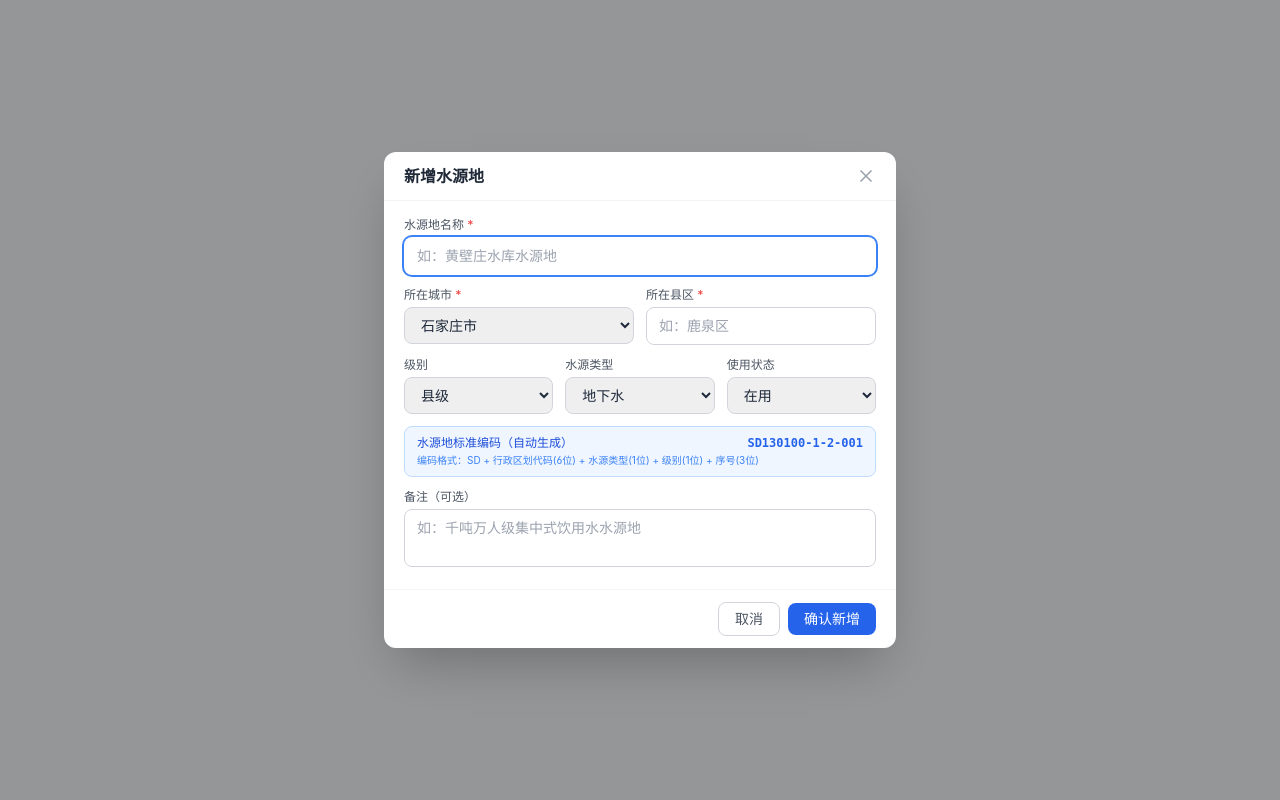
Scenario: SourceFormModal › 名称为空时提交应显示验证错误
Click the button "确认新增": (832, 619) [788,603,876,635]
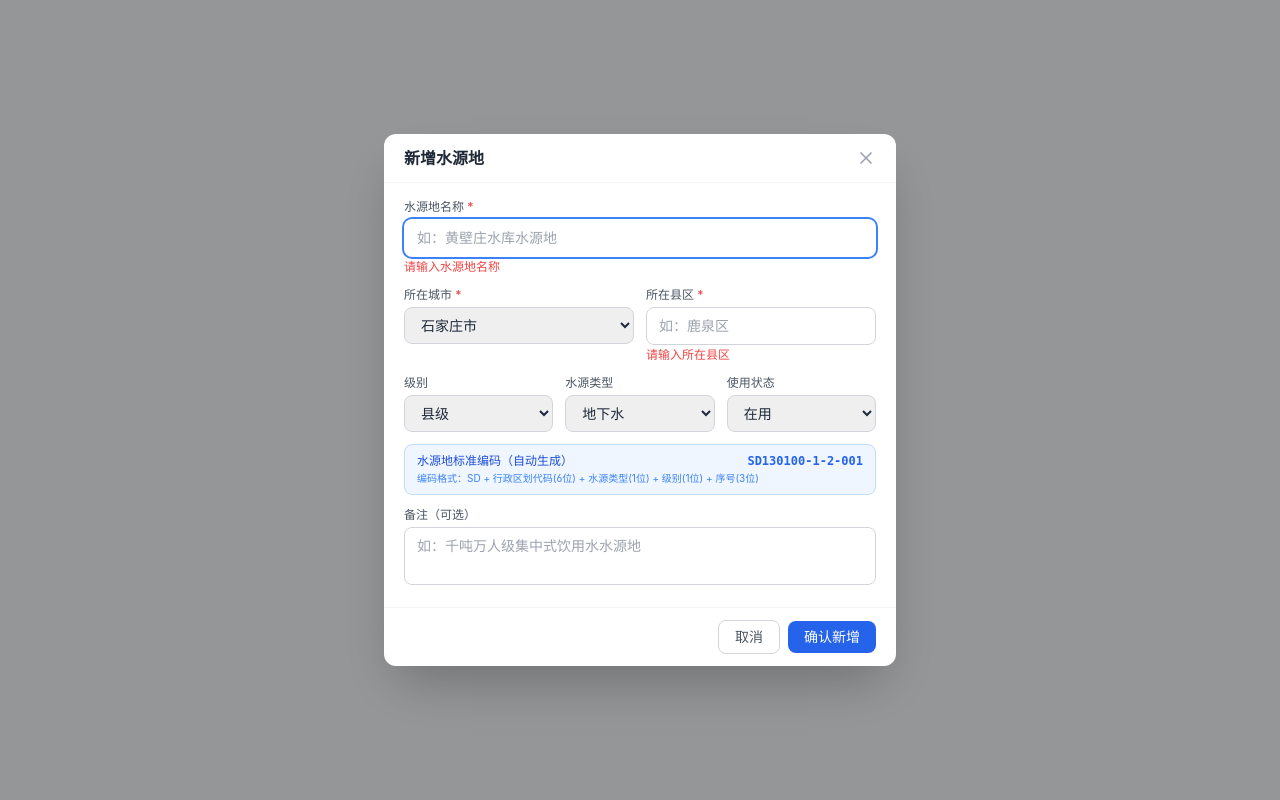
Check: the text "请输入水源地名称" is shown, box [404,259,500,274]
